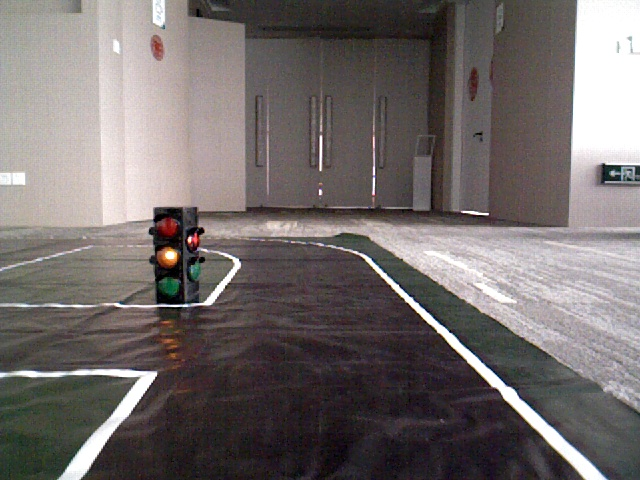yellow: (151, 208, 184, 299)
